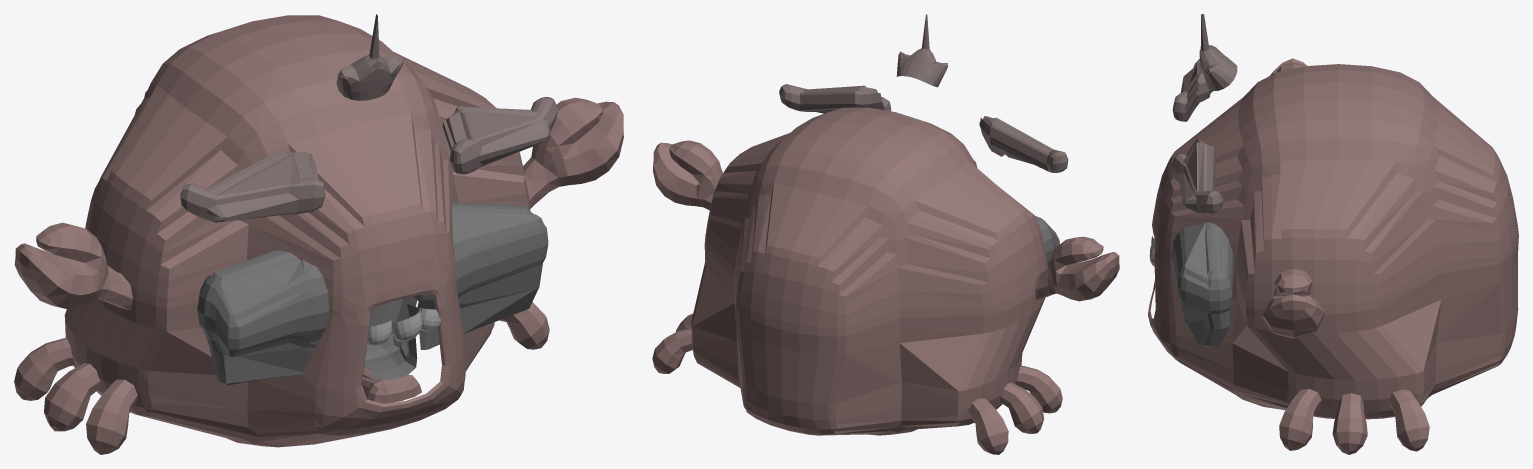
The model's file is crab.glb.
The picture shows the model from 3 angles, left to right: view 1: azimuth 30°, elevation 25°; view 2: azimuth 150°, elevation 25°; view 3: azimuth 270°, elevation 25°; orthographic projection. The views are drawn at different scales.
Bounding box in the file's own units: 0.918 × 0.6636 × 0.599.
